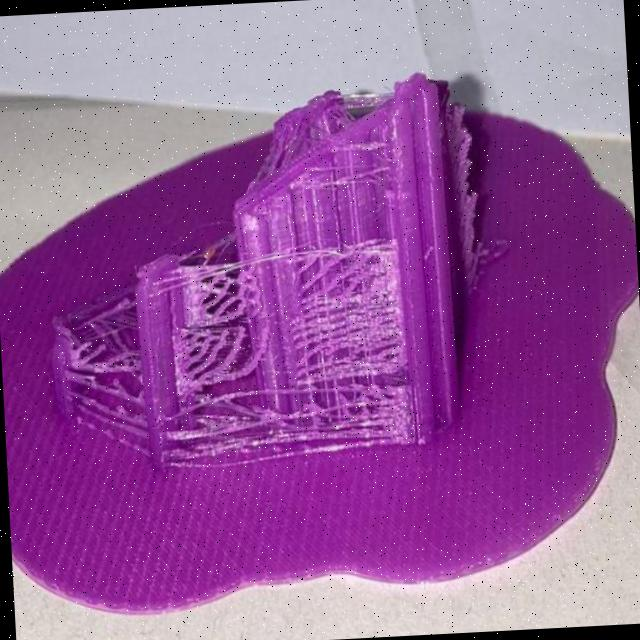stringing: (304, 254, 398, 377), (306, 376, 419, 456), (165, 394, 279, 465), (71, 352, 143, 446), (174, 265, 259, 339), (168, 328, 274, 386)
